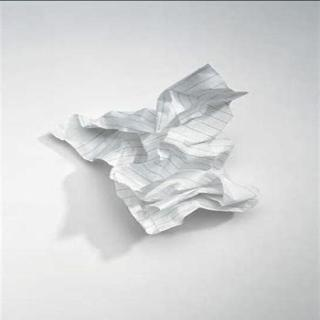Anorganik: (48, 62, 264, 234)
